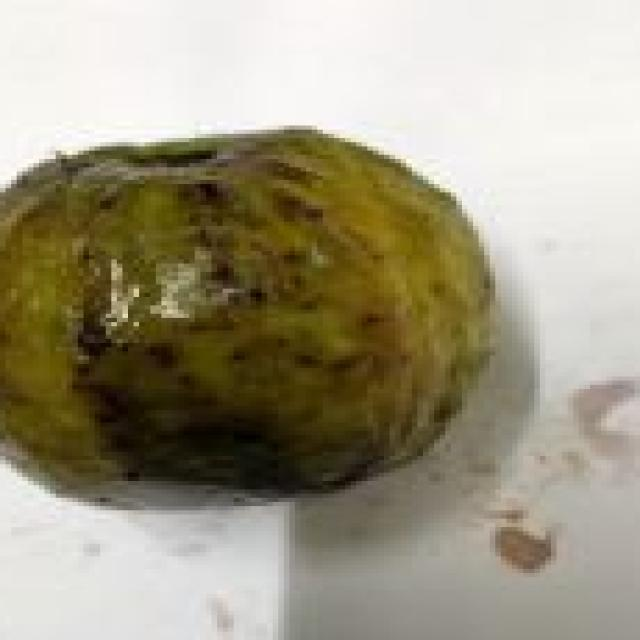Bad_Guava 0 day: (0, 128, 493, 499)
